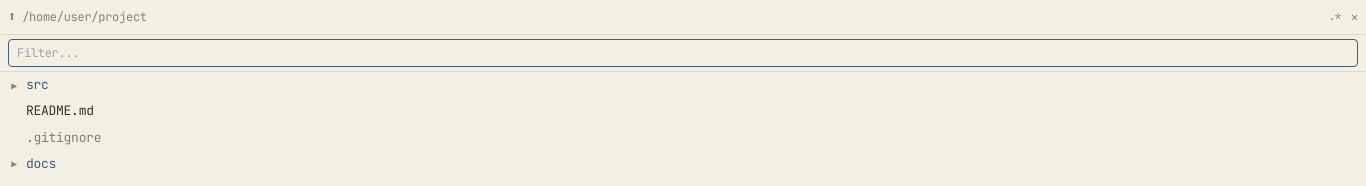
it: FileBrowser › shows "No files" when filter matches nothing
Check: the text "src" is shown, box [26,75,49,95]
Type "zzzzz" into the field with placeholder "Filter..." at (683, 53), box [8,39,1358,67]
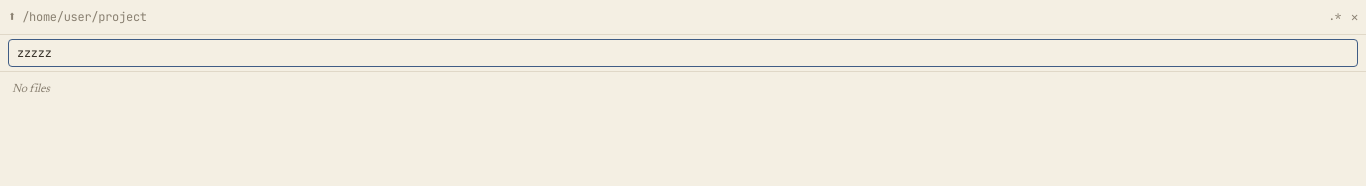
Check: the text "No files" is shown, box [12,83,50,95]
